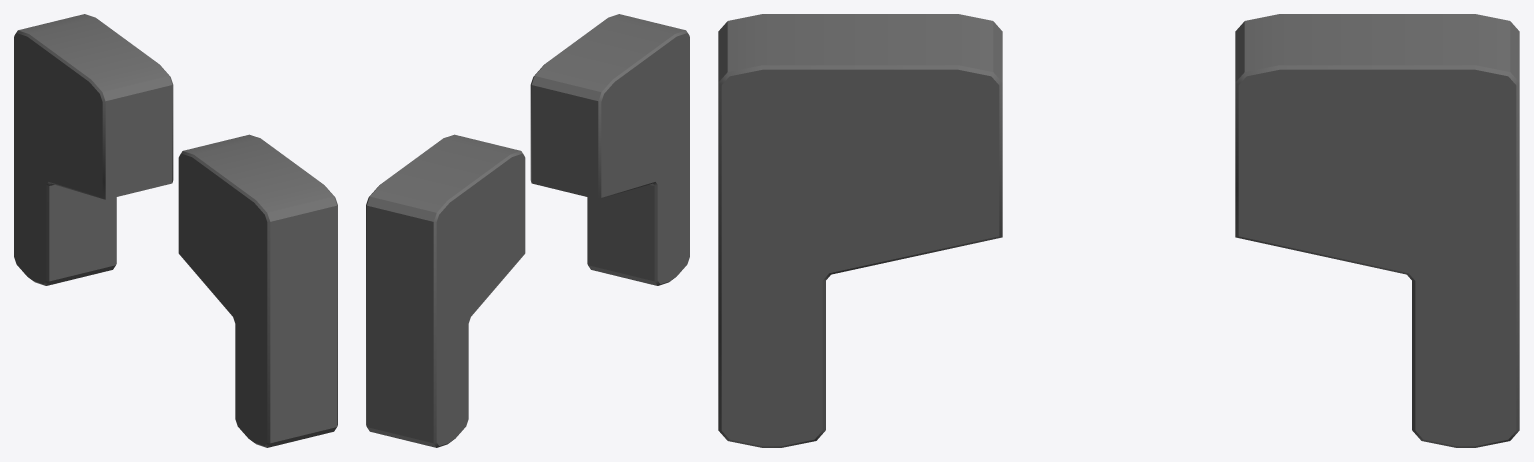
File: crane_trans2.FBX
3 renders of one model, left to right at view 1: azimuth 30°, elevation 25°; view 2: azimuth 150°, elevation 25°; view 3: azimuth 270°, elevation 25°, orthographic. The views are drawn at different scales.
Parts seen in each view (by area): view 1: Object005; view 2: Object005; view 3: Object005.
Boxes of the visible parts, box(x1,y1,x2,y2) form: Object005: box(14, 14, 337, 447); Object005: box(366, 14, 689, 447); Object005: box(718, 14, 1519, 447).
Bounding box in the file's own units: 13.17 × 43.49 × 82.52.
